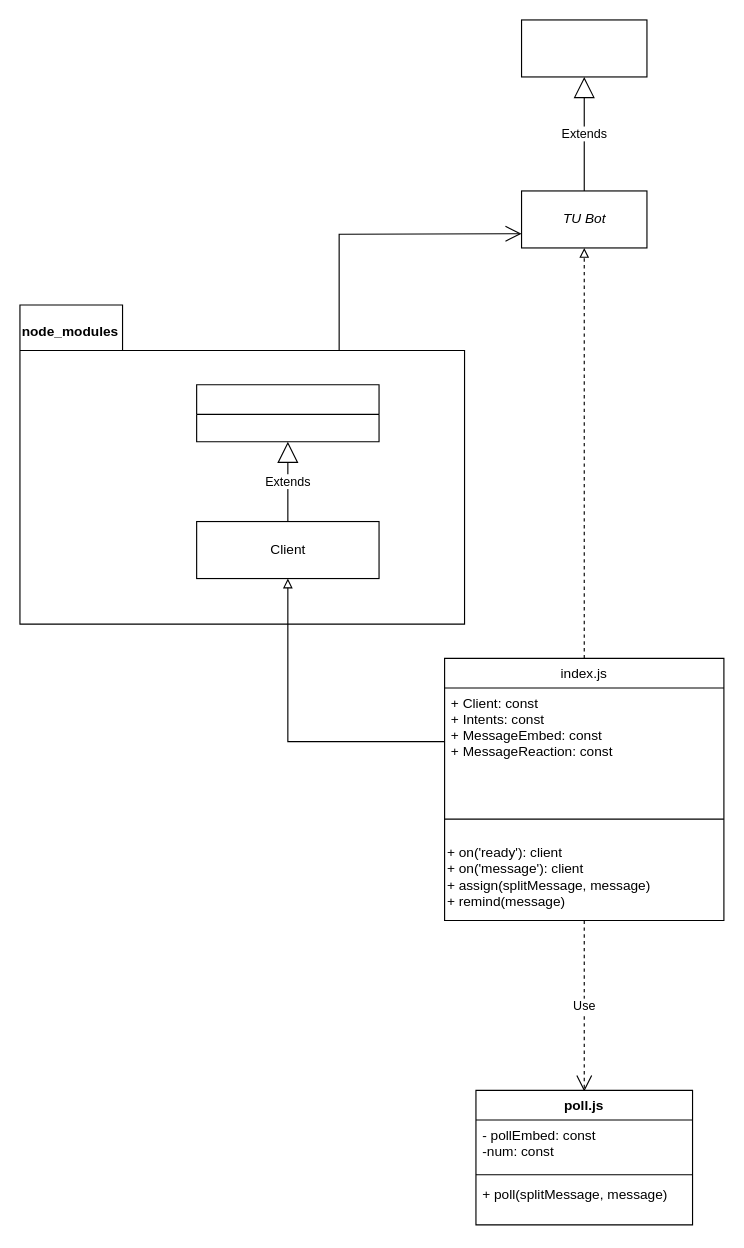
The diagram is 744 pixels wide and 1248 high, and some of its shapes have lost their labels. The centre of each missing label's shape, as x and y in pixels:
discord.js: (x=287, y=413)
«interface» Discord: (x=583, y=48)
